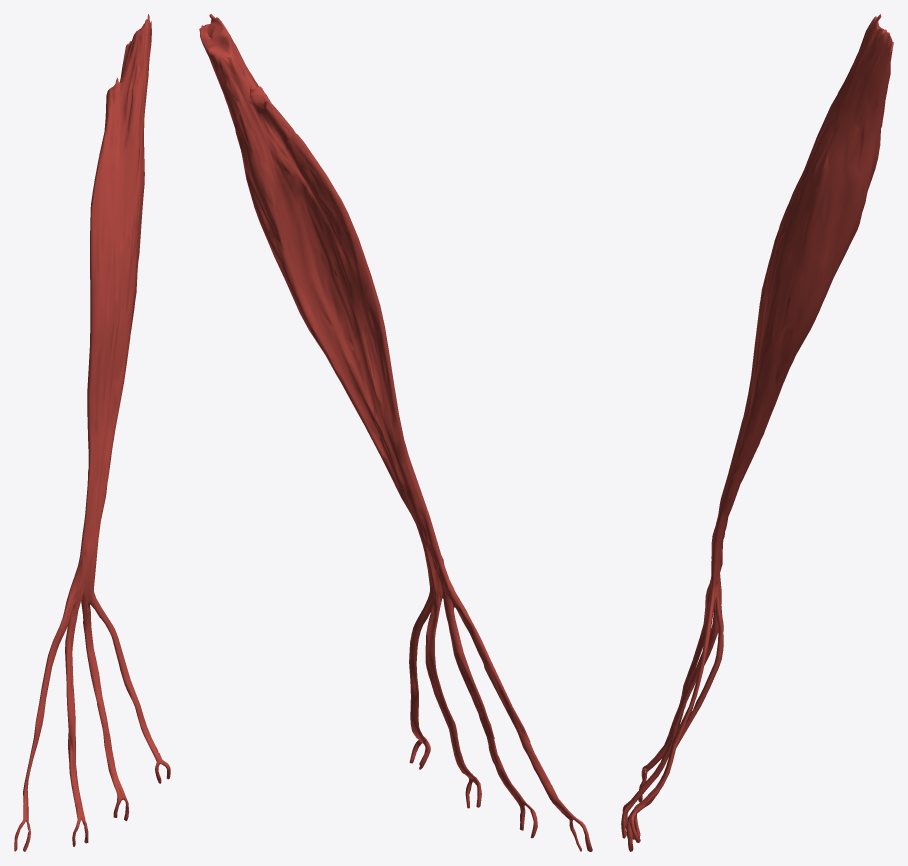
The model's file is musculos-humero-ulnar-head-of-flexor-digitorum-superficialis-r.glb.
The picture shows the model from 3 angles, left to right: view 1: azimuth 30°, elevation 25°; view 2: azimuth 150°, elevation 25°; view 3: azimuth 270°, elevation 25°; orthographic projection. The views are drawn at different scales.
Parts seen in each view (by area): view 1: Humero-ulnar head of flexor digitorum superficialis.r; view 2: Humero-ulnar head of flexor digitorum superficialis.r; view 3: Humero-ulnar head of flexor digitorum superficialis.r.
Boxes of the visible parts, left/top/right/bottom form: Humero-ulnar head of flexor digitorum superficialis.r: left=14, top=14, right=170, bottom=851; Humero-ulnar head of flexor digitorum superficialis.r: left=199, top=14, right=592, bottom=851; Humero-ulnar head of flexor digitorum superficialis.r: left=621, top=14, right=893, bottom=851.
Bounding box in the file's own units: 0.132 × 0.3897 × 0.1037.
